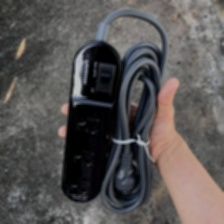three_eye_plug: (58, 36, 125, 205)
